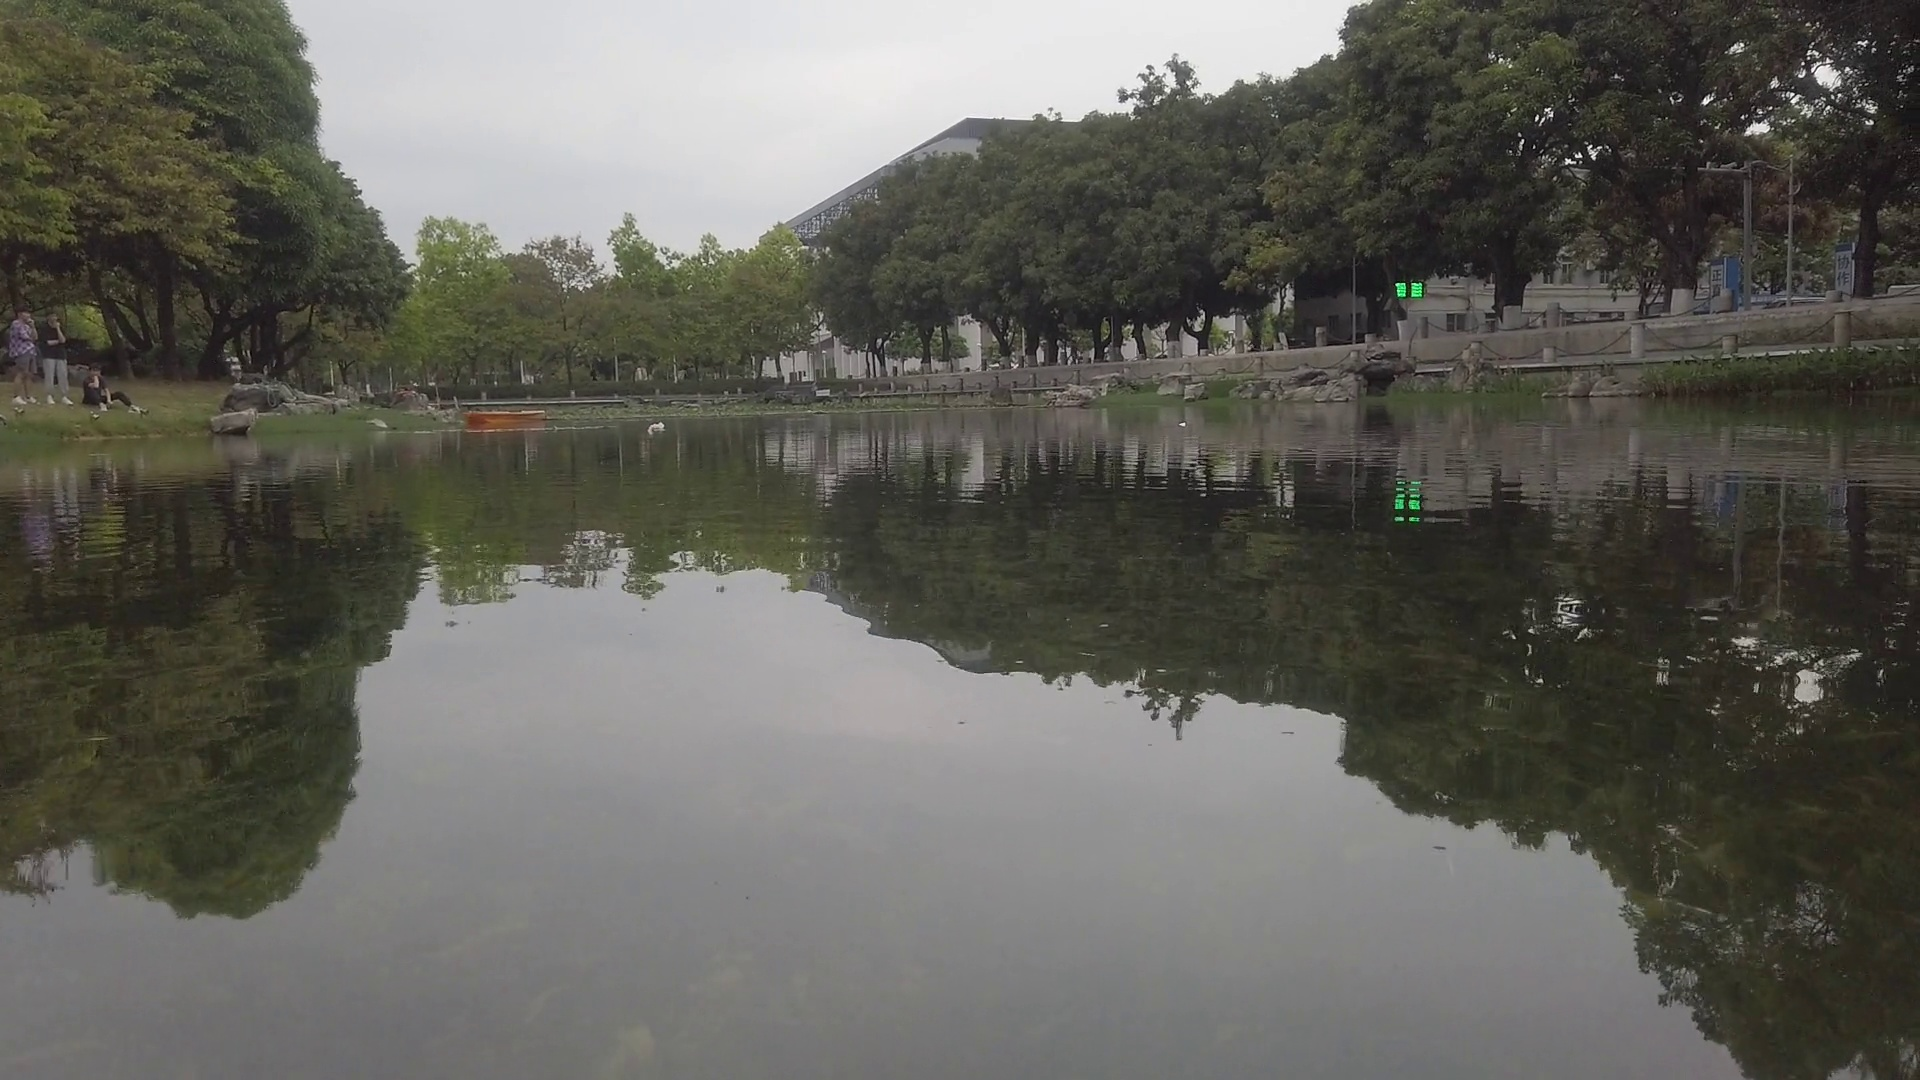paper: (1179, 417, 1188, 433)
plastic: (649, 422, 665, 433)
